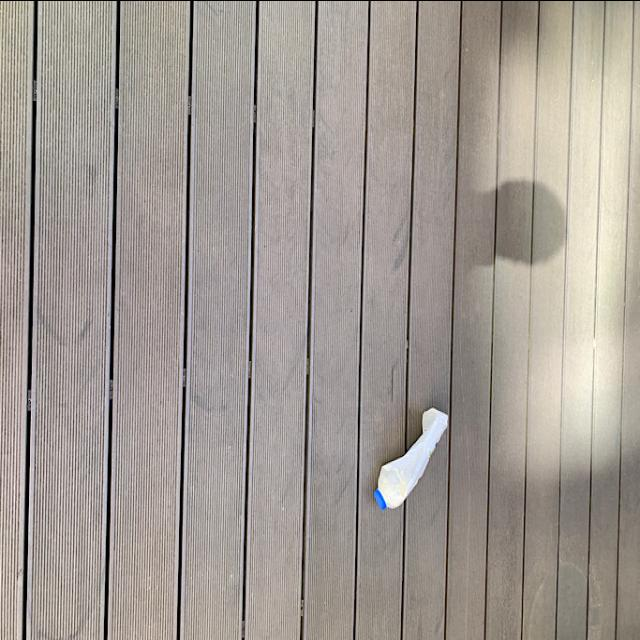litter: (372, 405, 449, 510)
